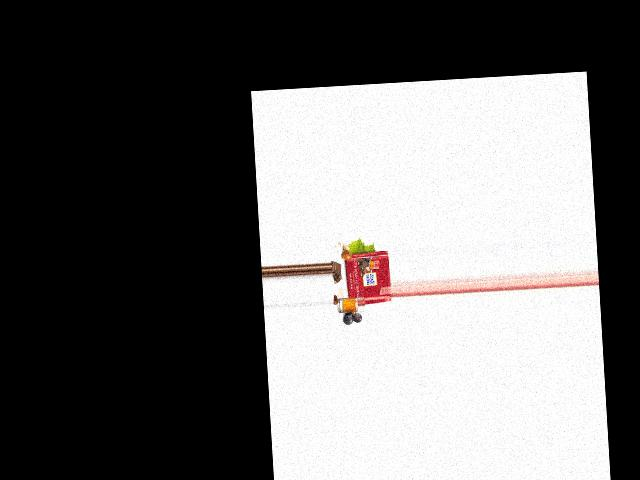chocolate: (344, 249, 391, 304)
